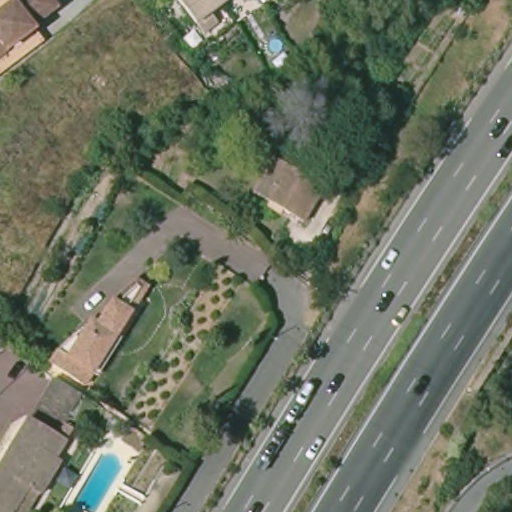pool: (63, 450, 123, 512), (265, 33, 285, 57)
